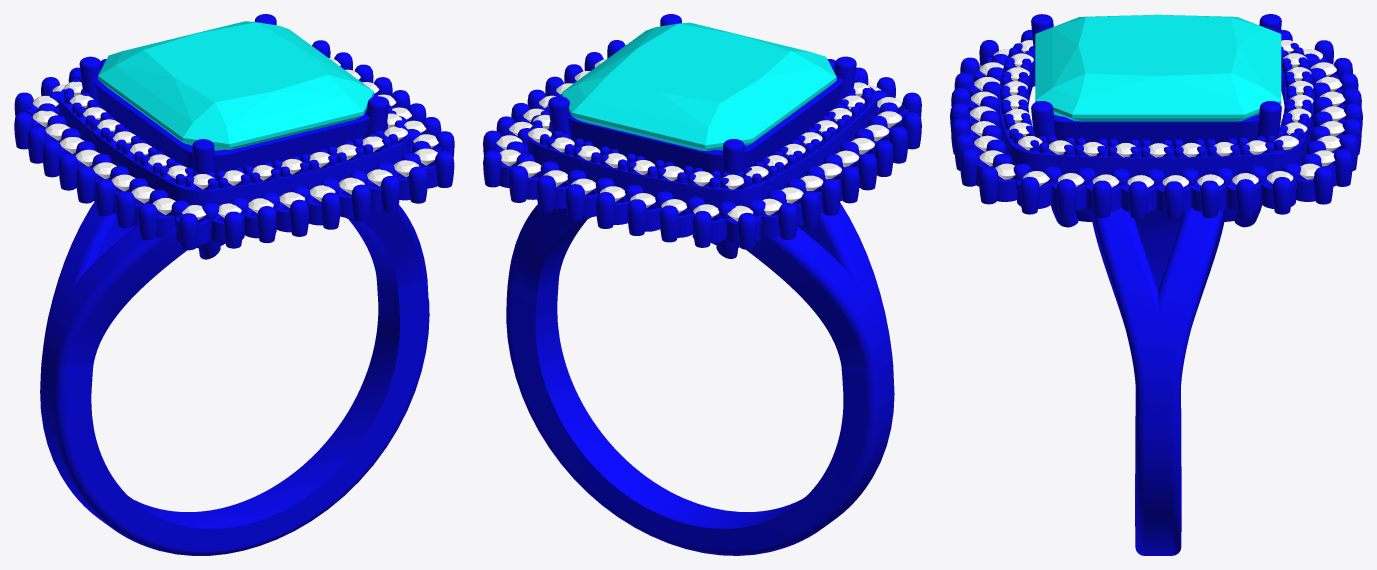
3 views of the same model, side by side, from view 1: azimuth 30°, elevation 25°; view 2: azimuth 150°, elevation 25°; view 3: azimuth 270°, elevation 25° (orthographic).
Parts seen in each view (by area): view 1: anel tanzanita 010.3dm; view 2: anel tanzanita 010.3dm; view 3: anel tanzanita 010.3dm.
Boxes of the visible parts, bbox=[...] form: anel tanzanita 010.3dm: bbox=[14, 14, 454, 555]; anel tanzanita 010.3dm: bbox=[483, 14, 921, 555]; anel tanzanita 010.3dm: bbox=[950, 14, 1362, 555].
Bounding box in the file's own units: 2.17 × 2.67 × 2.04.
